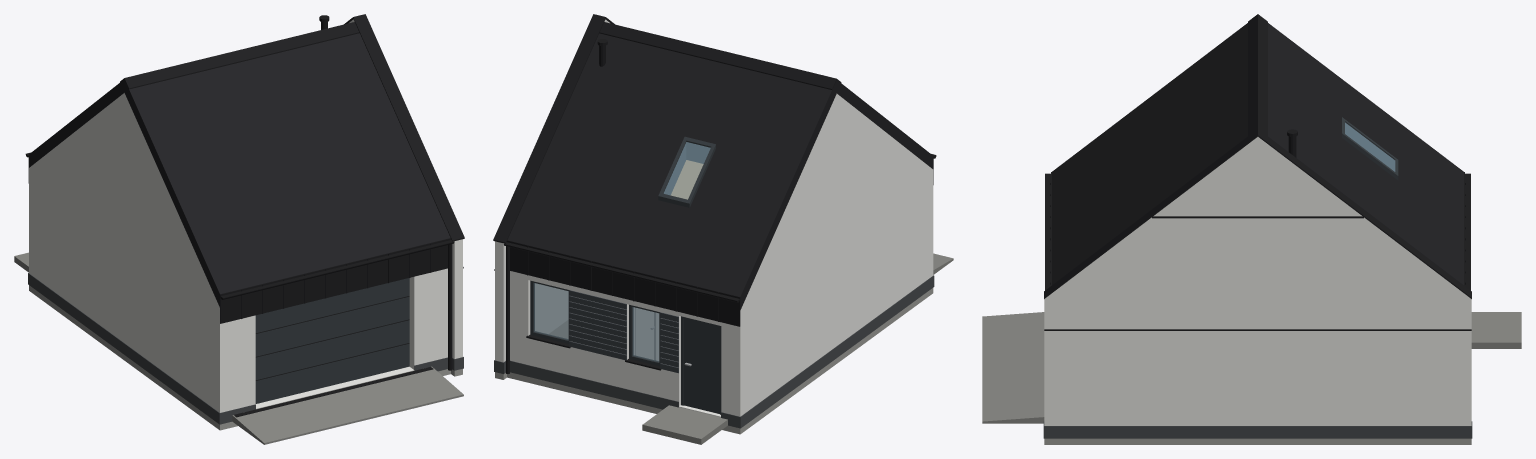
Rendered from garaz_antracyt.dae.
3 renders of one model, left to right at view 1: azimuth 30°, elevation 25°; view 2: azimuth 150°, elevation 25°; view 3: azimuth 270°, elevation 25°, orthographic. The views are drawn at different scales.
Parts seen in each view (by area): view 1: Dach – połać frontowa, Ściana szczytowa lewa (od strony domu), BG <BG brama garażowa segmentowa 400x225>, Ściana frontowa, Podjazd przed bramą (spadek 8%), Pas blachy frontowy, Opierzenie ściany szczytowej, Cokół – tynk mozaikowy, Gąsior, Płyta fundamentowa, Dach – połać ogrodowa, Ściana szczytowa prawa (+5 smaller); view 2: Dach – połać ogrodowa, Ściana szczytowa lewa (od strony domu), Ściana ogrodowa, Pas blachy ogrodowy, Cokół – tynk mozaikowy, Deska elewacyjna – ogród, D1 <D1 drzwi zewnętrzne 90x210>, Opierzenie ściany szczytowej, Gąsior, Ściana szczytowa prawa, OP <OP okno dachowe 78x148>, Płyta fundamentowa (+10 smaller); view 3: Ściana szczytowa prawa, Dach – połać frontowa, Dach – połać ogrodowa, Podjazd przed bramą (spadek 8%), Cokół – tynk mozaikowy, Opierzenie ściany szczytowej, Płyta fundamentowa, Gąsior, Podest przy drzwiach D1, Płyta pod ścianą szczytową, OP <OP okno dachowe 78x148>, Pas blachy na szczycie – dolny (+3 smaller).
Boxes of the visible parts, x1,y1,x2,y2 form: Dach – połać frontowa: (124, 33, 450, 307); Ściana szczytowa lewa (od strony domu): (33, 93, 215, 408); BG <BG brama garażowa segmentowa 400x225>: (255, 278, 409, 403); Ściana frontowa: (215, 268, 447, 412); Podjazd przed bramą (spadek 8%): (232, 366, 463, 444); Pas blachy frontowy: (220, 238, 451, 323); Opierzenie ściany szczytowej: (344, 14, 464, 241); Cokół – tynk mozaikowy: (28, 273, 463, 424); Gąsior: (120, 22, 359, 89); Płyta fundamentowa: (29, 285, 450, 430); Dach – połać ogrodowa: (29, 79, 124, 167); Ściana szczytowa prawa: (349, 19, 462, 358); Dach – połać ogrodowa: (507, 33, 836, 309); Ściana szczytowa lewa (od strony domu): (745, 93, 928, 412); Ściana ogrodowa: (510, 271, 745, 417); Pas blachy ogrodowy: (507, 240, 740, 326); Cokół – tynk mozaikowy: (494, 275, 934, 428); Deska elewacyjna – ogród: (569, 290, 678, 373); D1 <D1 drzwi zewnętrzne 90x210>: (681, 316, 721, 414); Opierzenie ściany szczytowej: (493, 14, 614, 243); Gąsior: (599, 22, 841, 89); Ściana szczytowa prawa: (495, 19, 609, 362); OP <OP okno dachowe 78x148>: (658, 136, 715, 207); Płyta fundamentowa: (507, 288, 933, 434); Ściana szczytowa prawa: (1044, 137, 1471, 425); Dach – połać frontowa: (1052, 23, 1247, 284); Dach – połać ogrodowa: (1268, 23, 1463, 284); Podjazd przed bramą (spadek 8%): (982, 312, 1044, 423); Cokół – tynk mozaikowy: (1043, 421, 1472, 438); Opierzenie ściany szczytowej: (1044, 129, 1471, 298); Płyta fundamentowa: (1052, 438, 1463, 444); Gąsior: (1248, 14, 1267, 135); Podest przy drzwiach D1: (1471, 312, 1521, 348); Płyta pod ścianą szczytową: (1044, 438, 1471, 444); OP <OP okno dachowe 78x148>: (1342, 117, 1398, 180); Pas blachy na szczycie – dolny: (1044, 329, 1471, 330).
Size of what is drawn, in the model's own units: 606 by 1085 by 689.
